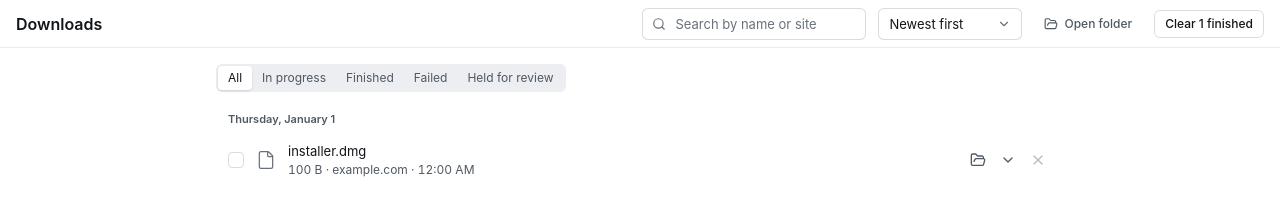
it: what a download tells you about itself › shows the hash of what actually arrived
Click the button named "Show details".
click(1008, 160)  # box [994,146,1022,174]
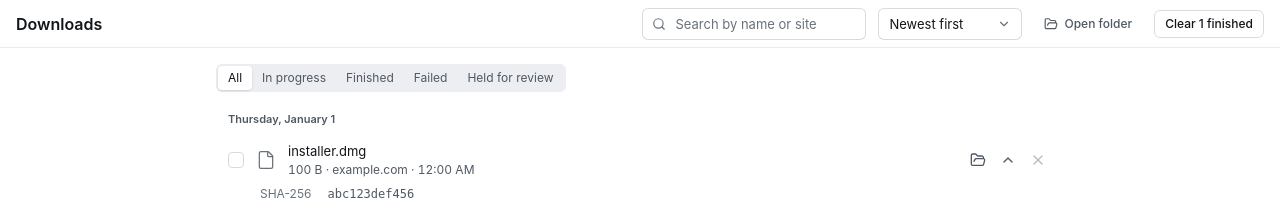
Expected: the text "abc123def456" is shown, [328,187,414,201]
